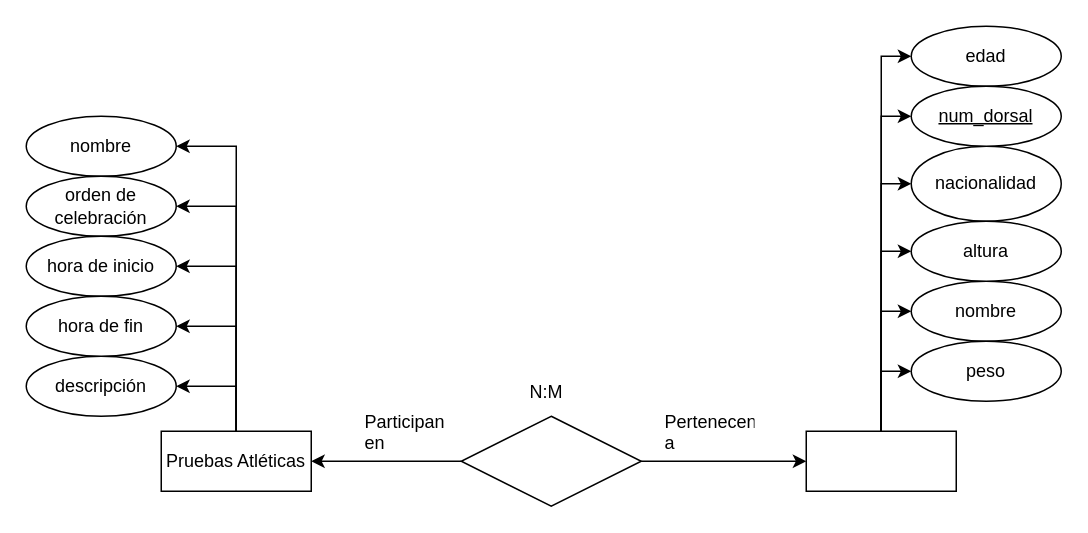
Some shapes in this 1088 by 533 pixel diagram are drawn without their labels. The centre of each missing label's shape, as x and y in pixels:
"PA-P" belongs at pixel 550 460.
"Participantes" belongs at pixel 880 460.
